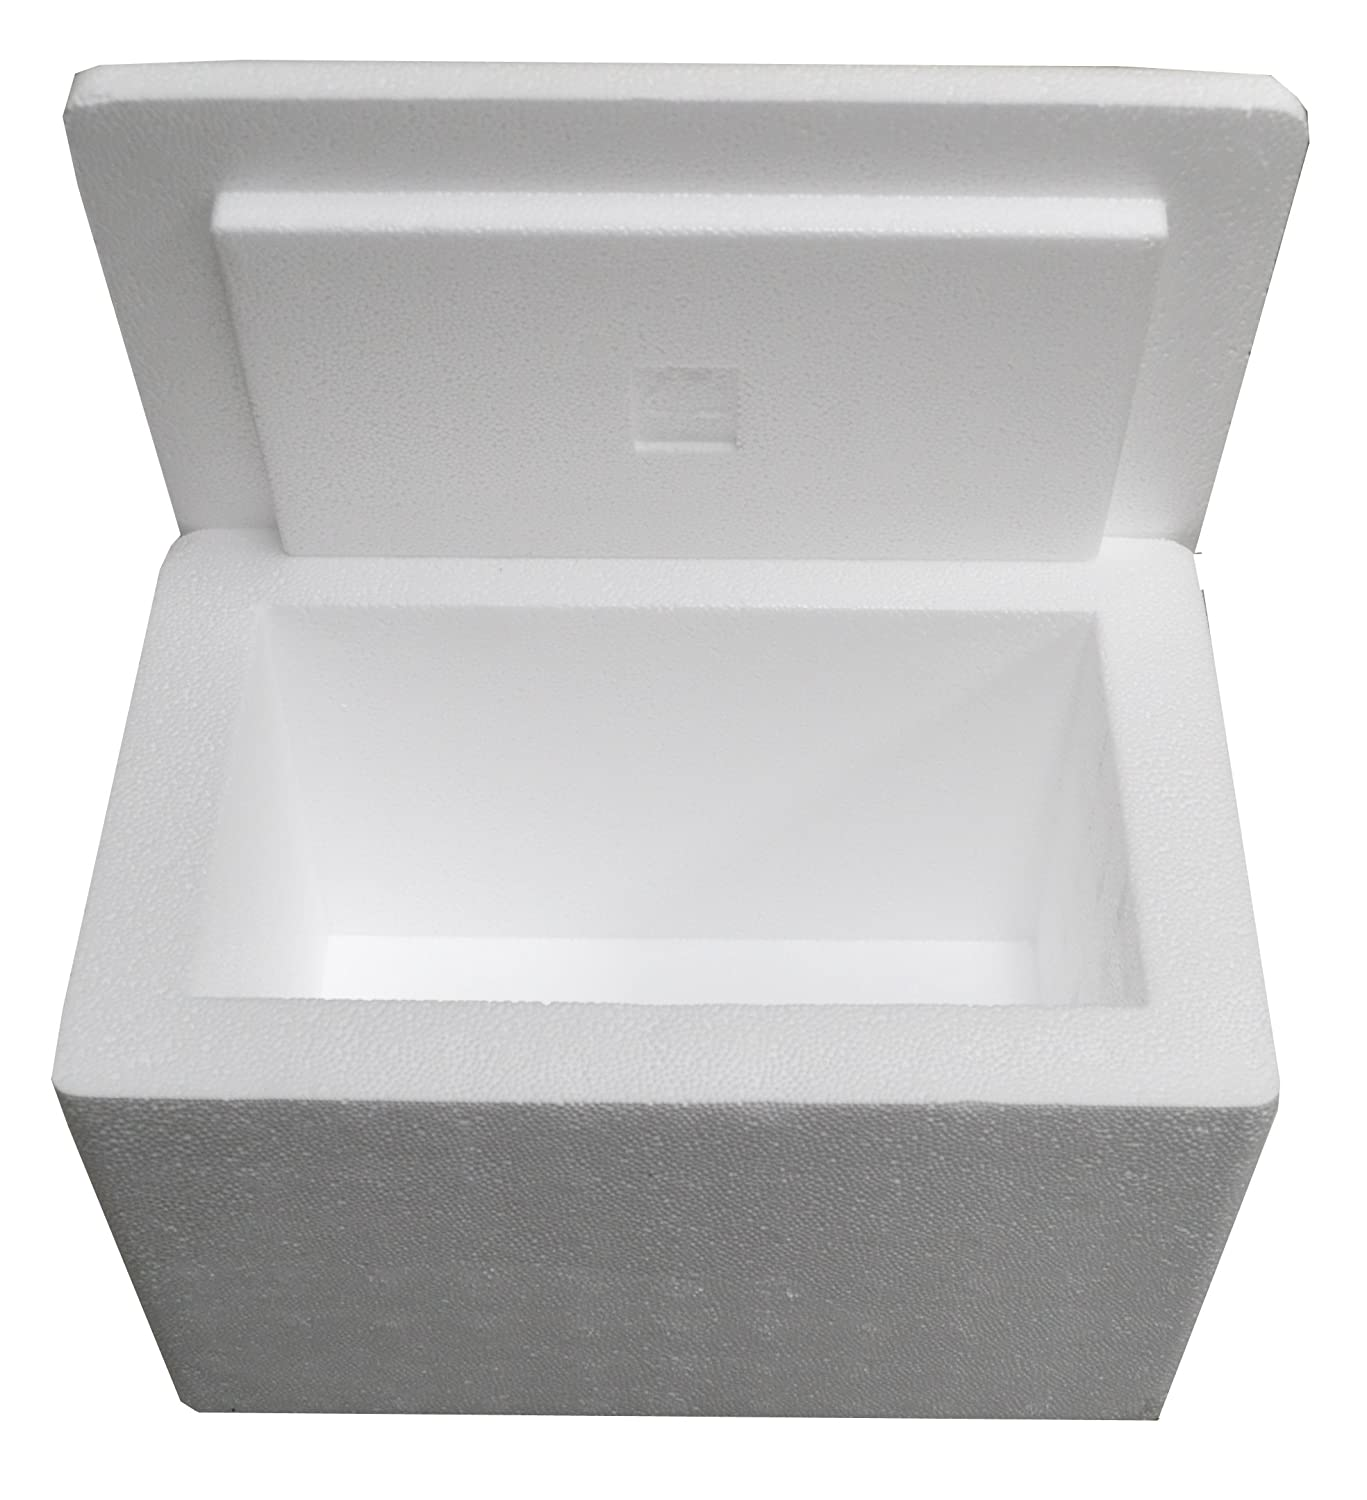Foam Box: (35, 47, 1317, 1432)
